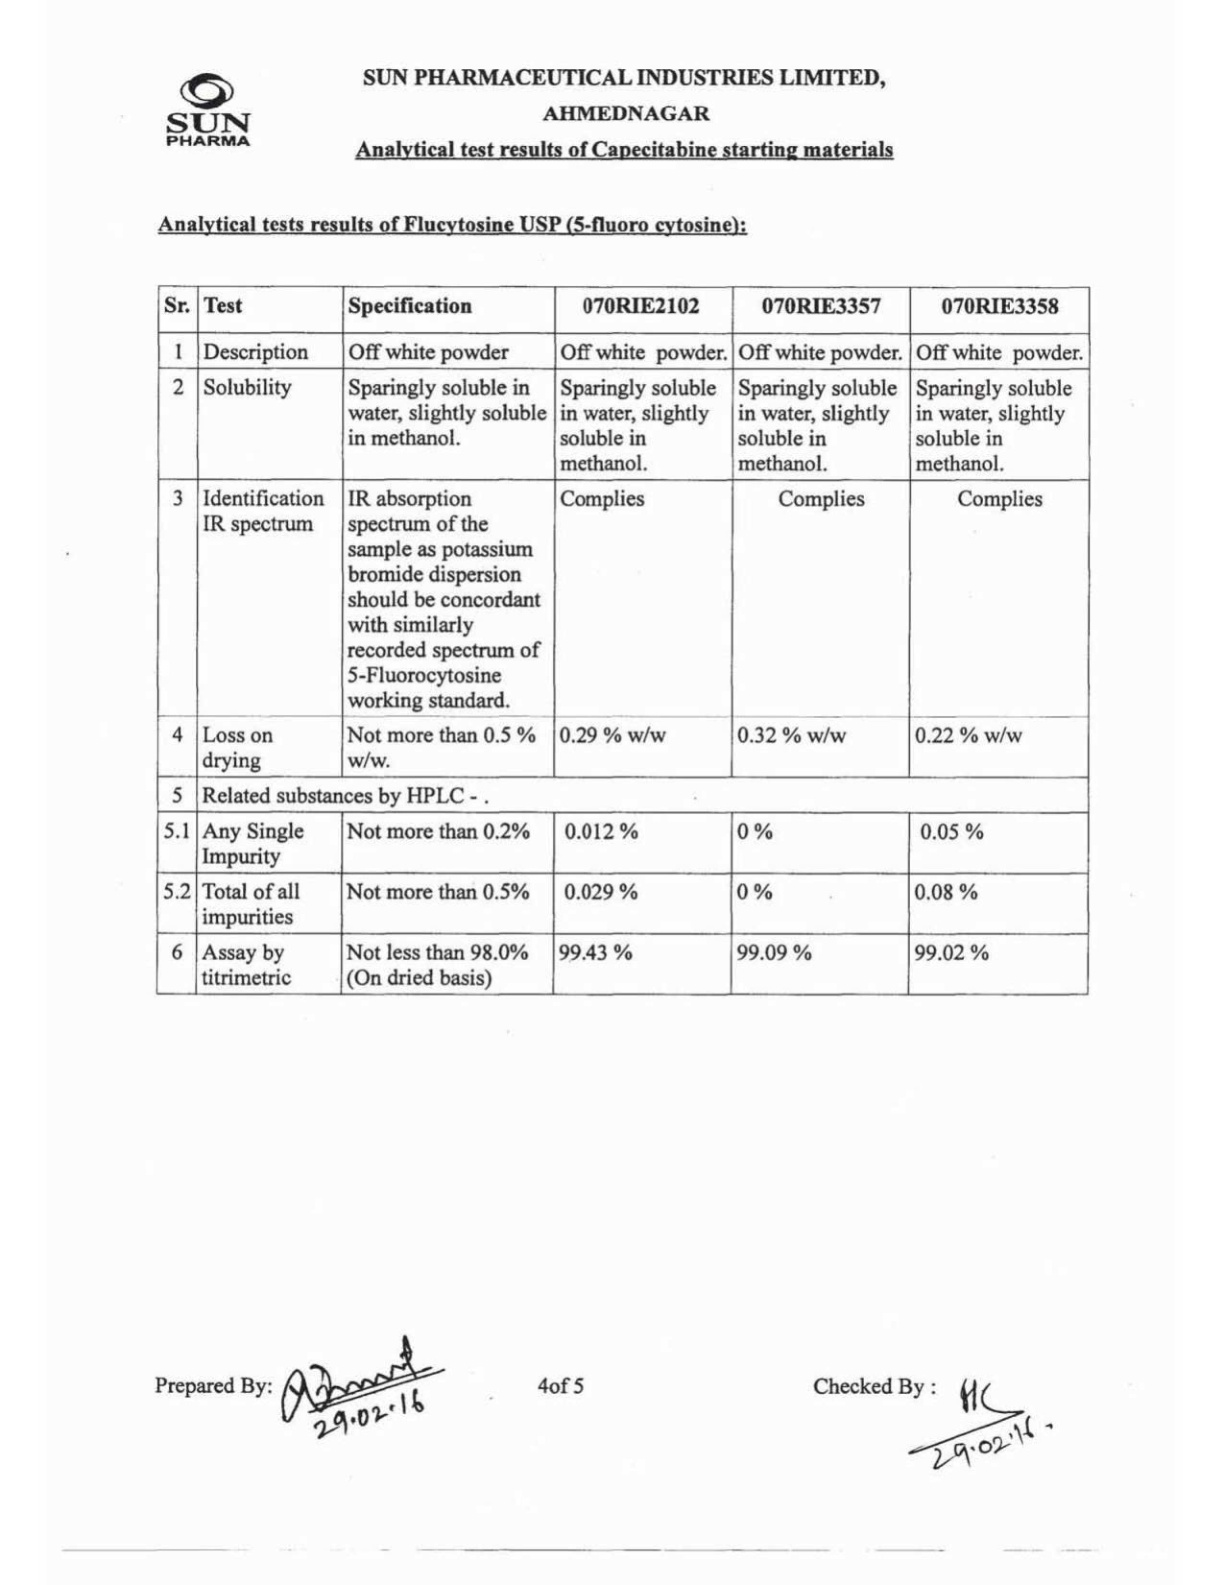merged_cells: (156, 283, 1090, 998)
